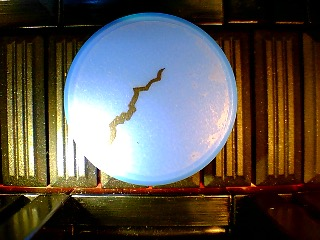CRACK: (63, 12, 238, 186)
